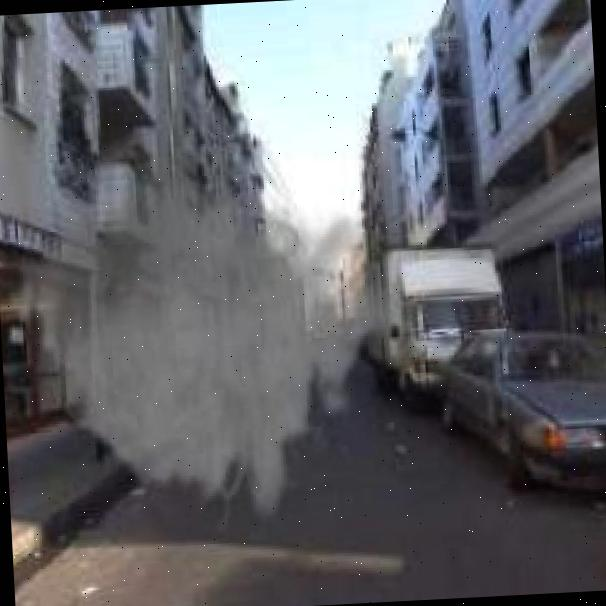smoke: (1, 115, 420, 549)
